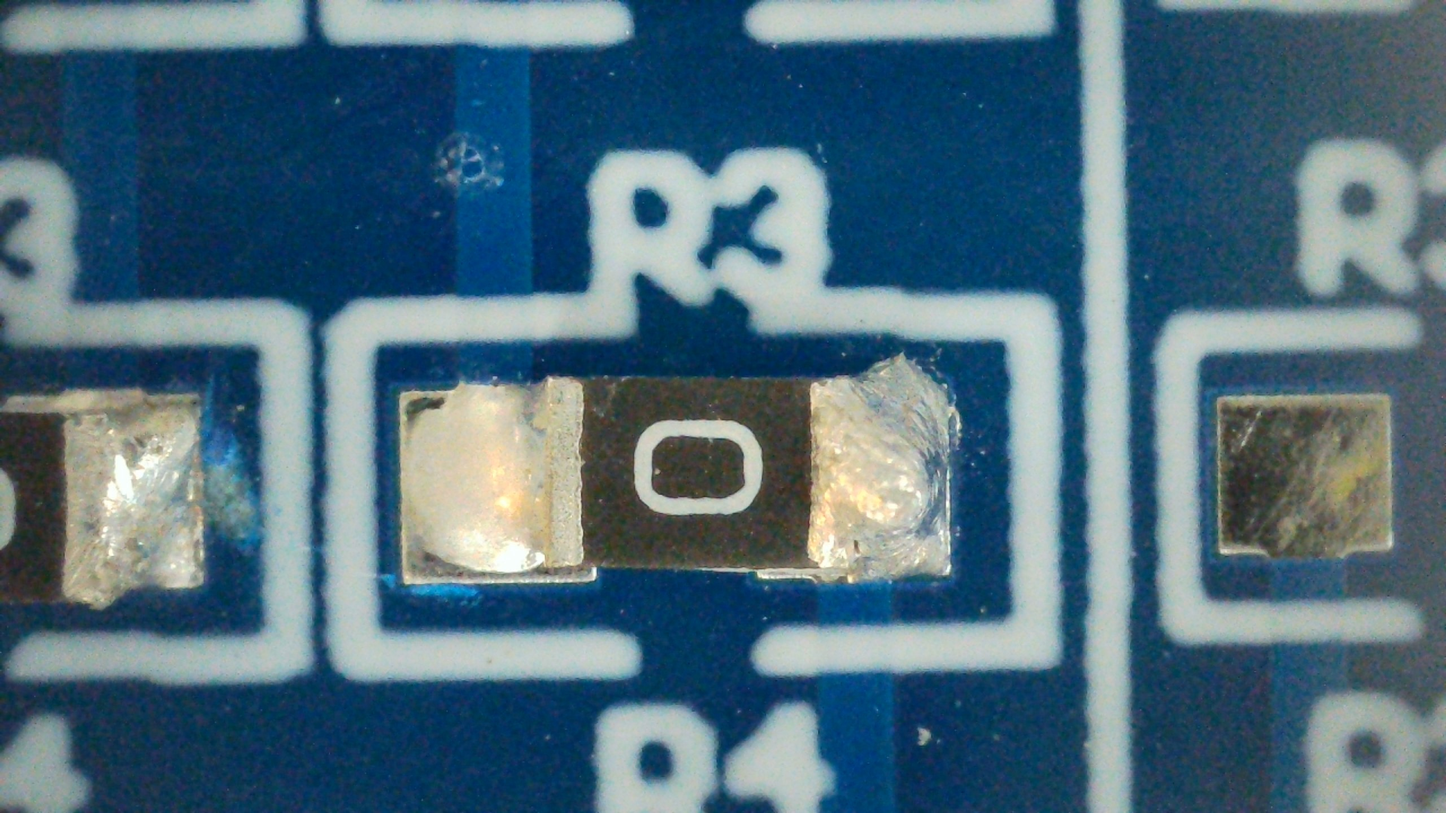OK: (401, 352, 950, 584)
